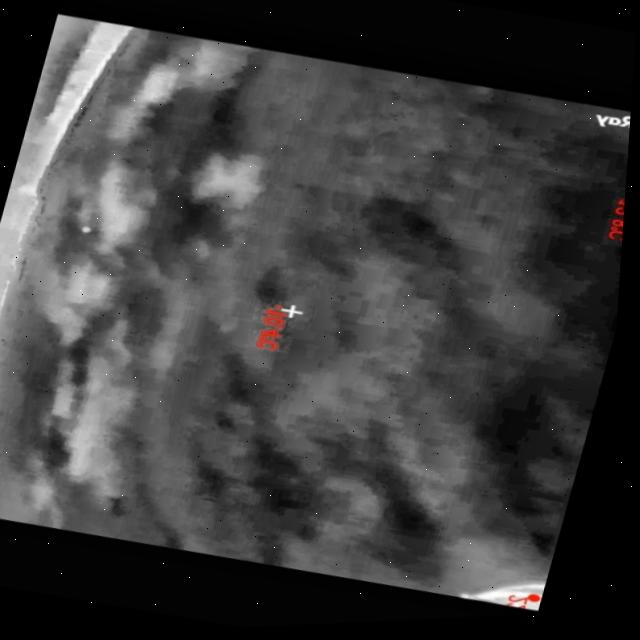drone: (82, 225, 96, 234)
